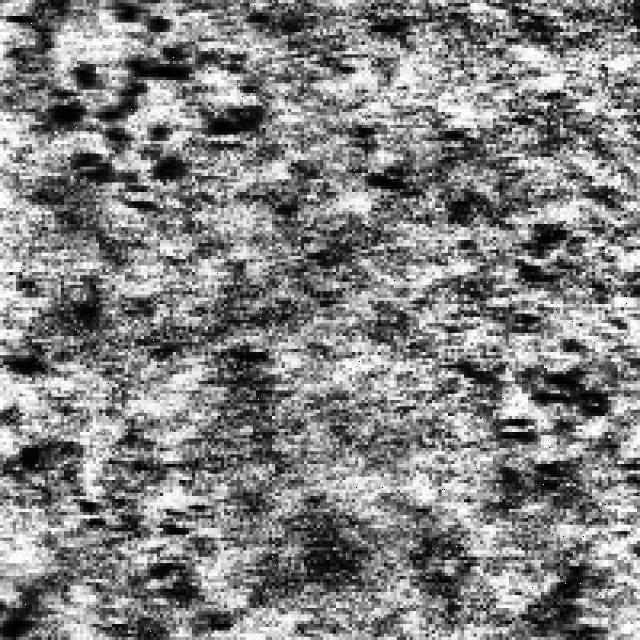Crazing: (458, 214, 614, 493), (38, 0, 246, 202)
